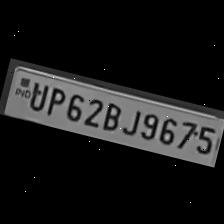2: (80, 92, 106, 128)
5: (189, 119, 218, 155)
6: (60, 86, 86, 122), (154, 111, 180, 146)
7: (174, 115, 198, 150)
9: (136, 107, 160, 141)
B: (98, 96, 123, 131)
J: (118, 101, 142, 136)
P: (42, 82, 67, 117)
U: (24, 76, 48, 112)
